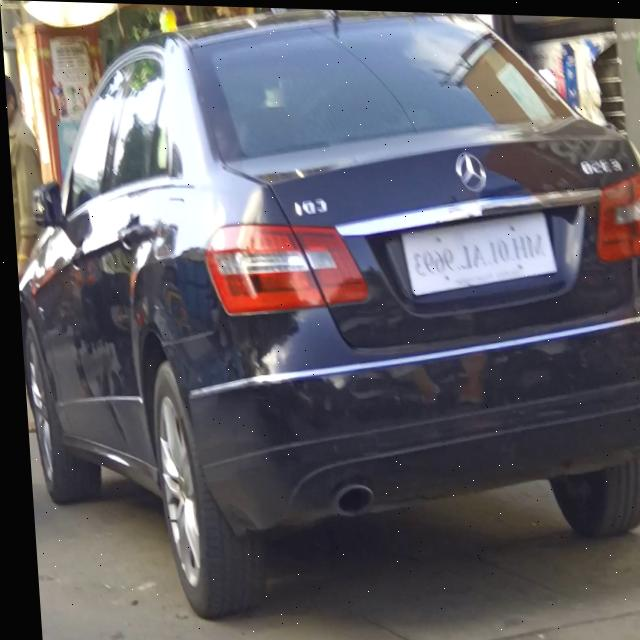plate: (396, 203, 559, 307)
